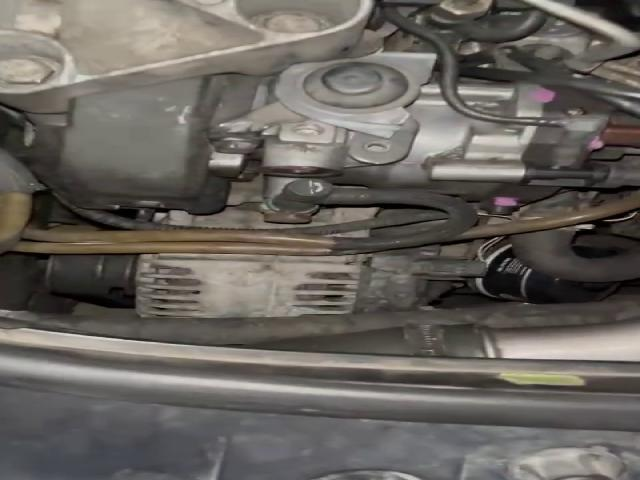alternator: (133, 243, 486, 319)
high_pressure_pump: (262, 81, 612, 216)
